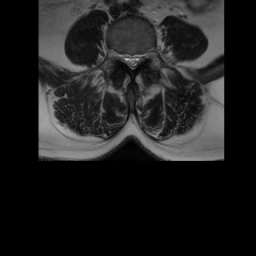CCS_normal: (129, 47, 135, 75)
LFS_normal: (141, 46, 147, 67)
LLS_normal: (135, 47, 141, 70)
RFS_normal: (117, 46, 124, 69)
RLS_normal: (124, 47, 129, 70)
